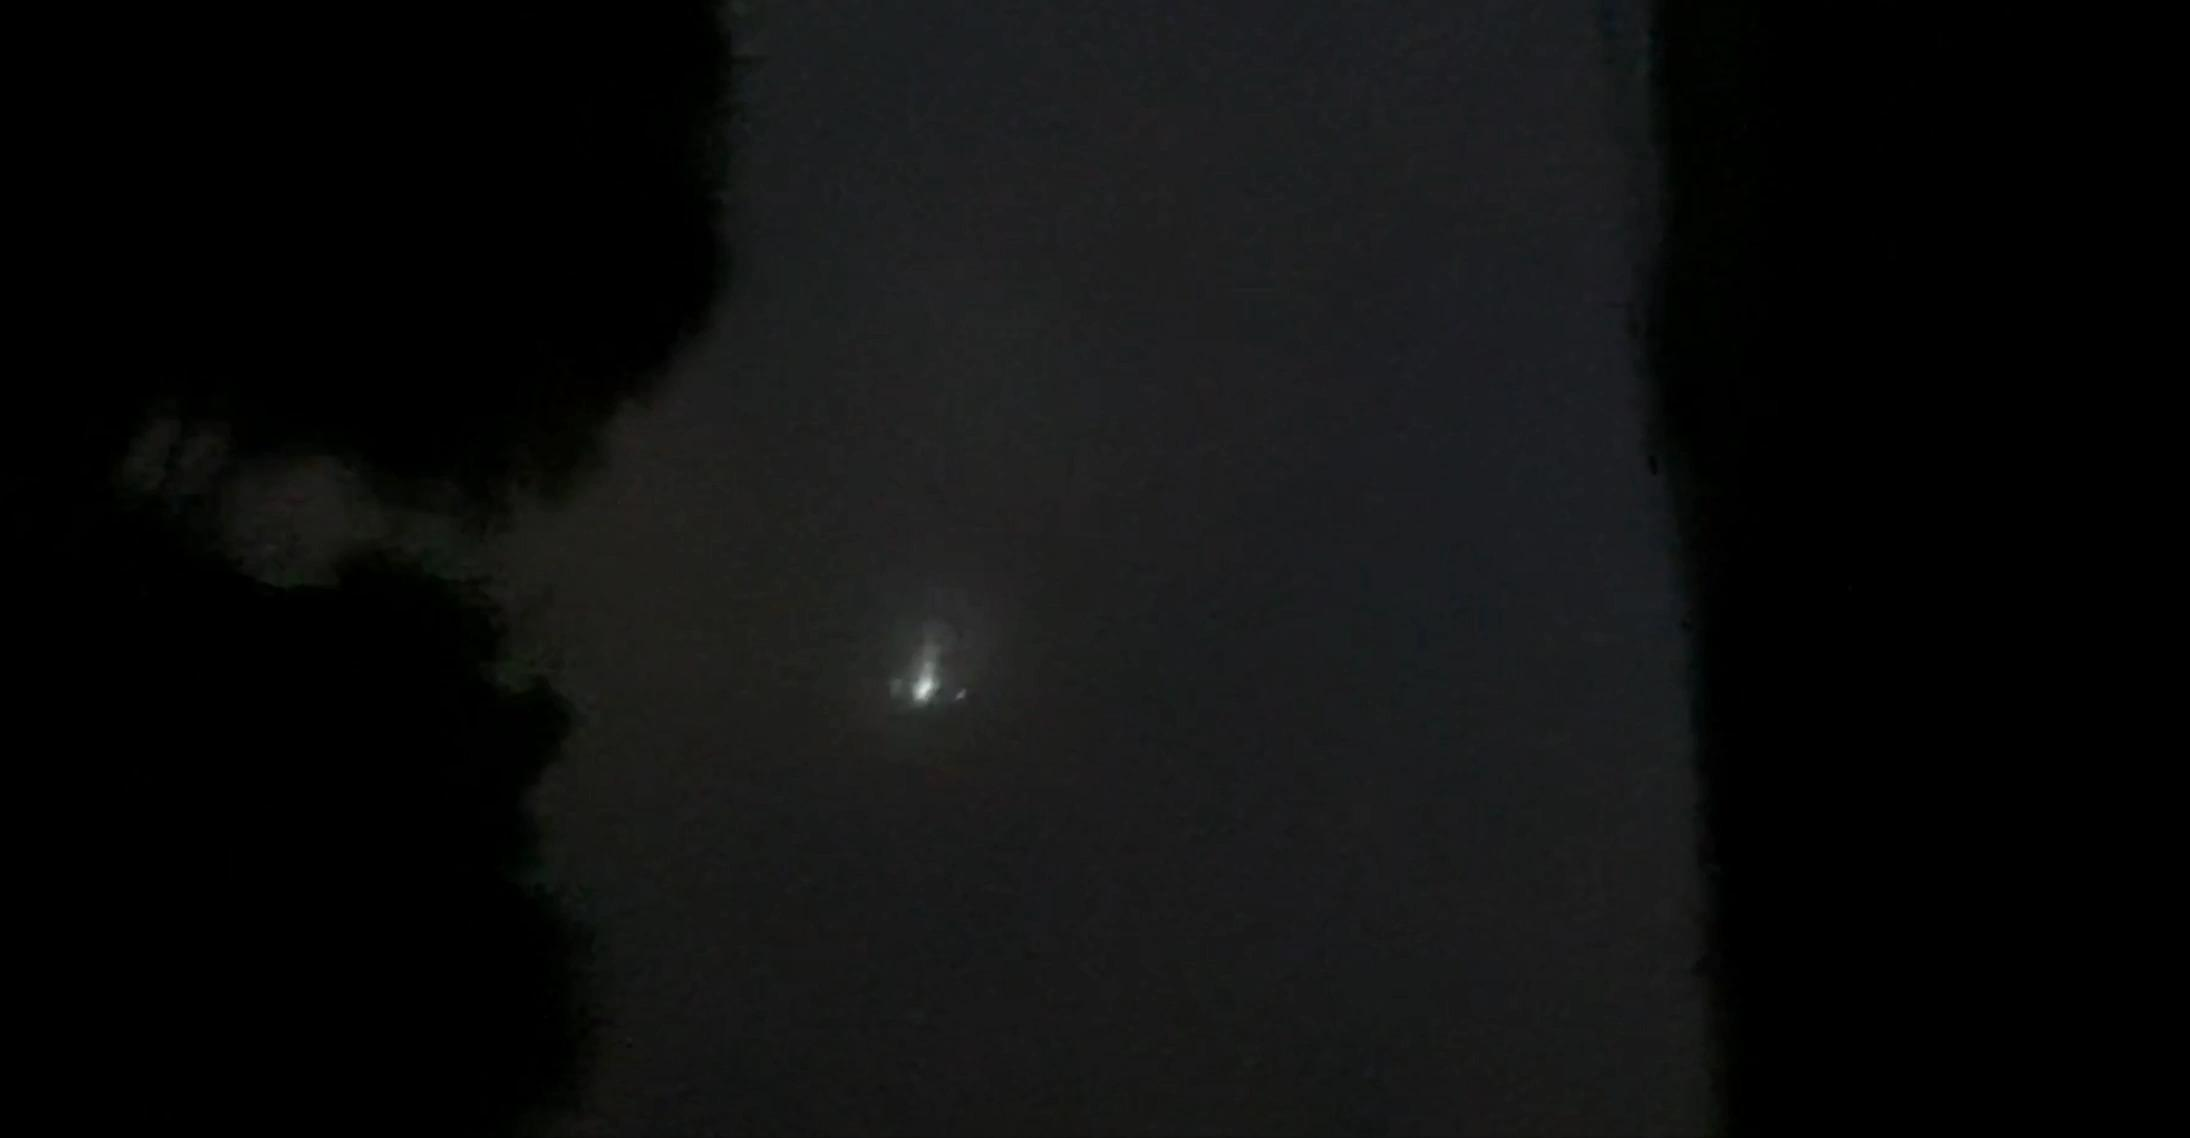Plane: (855, 568, 1005, 754)
